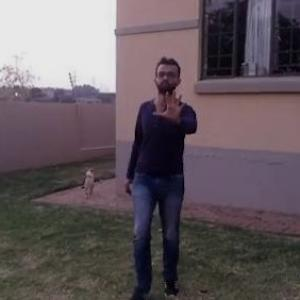follow_hand: (154, 84, 190, 129)
